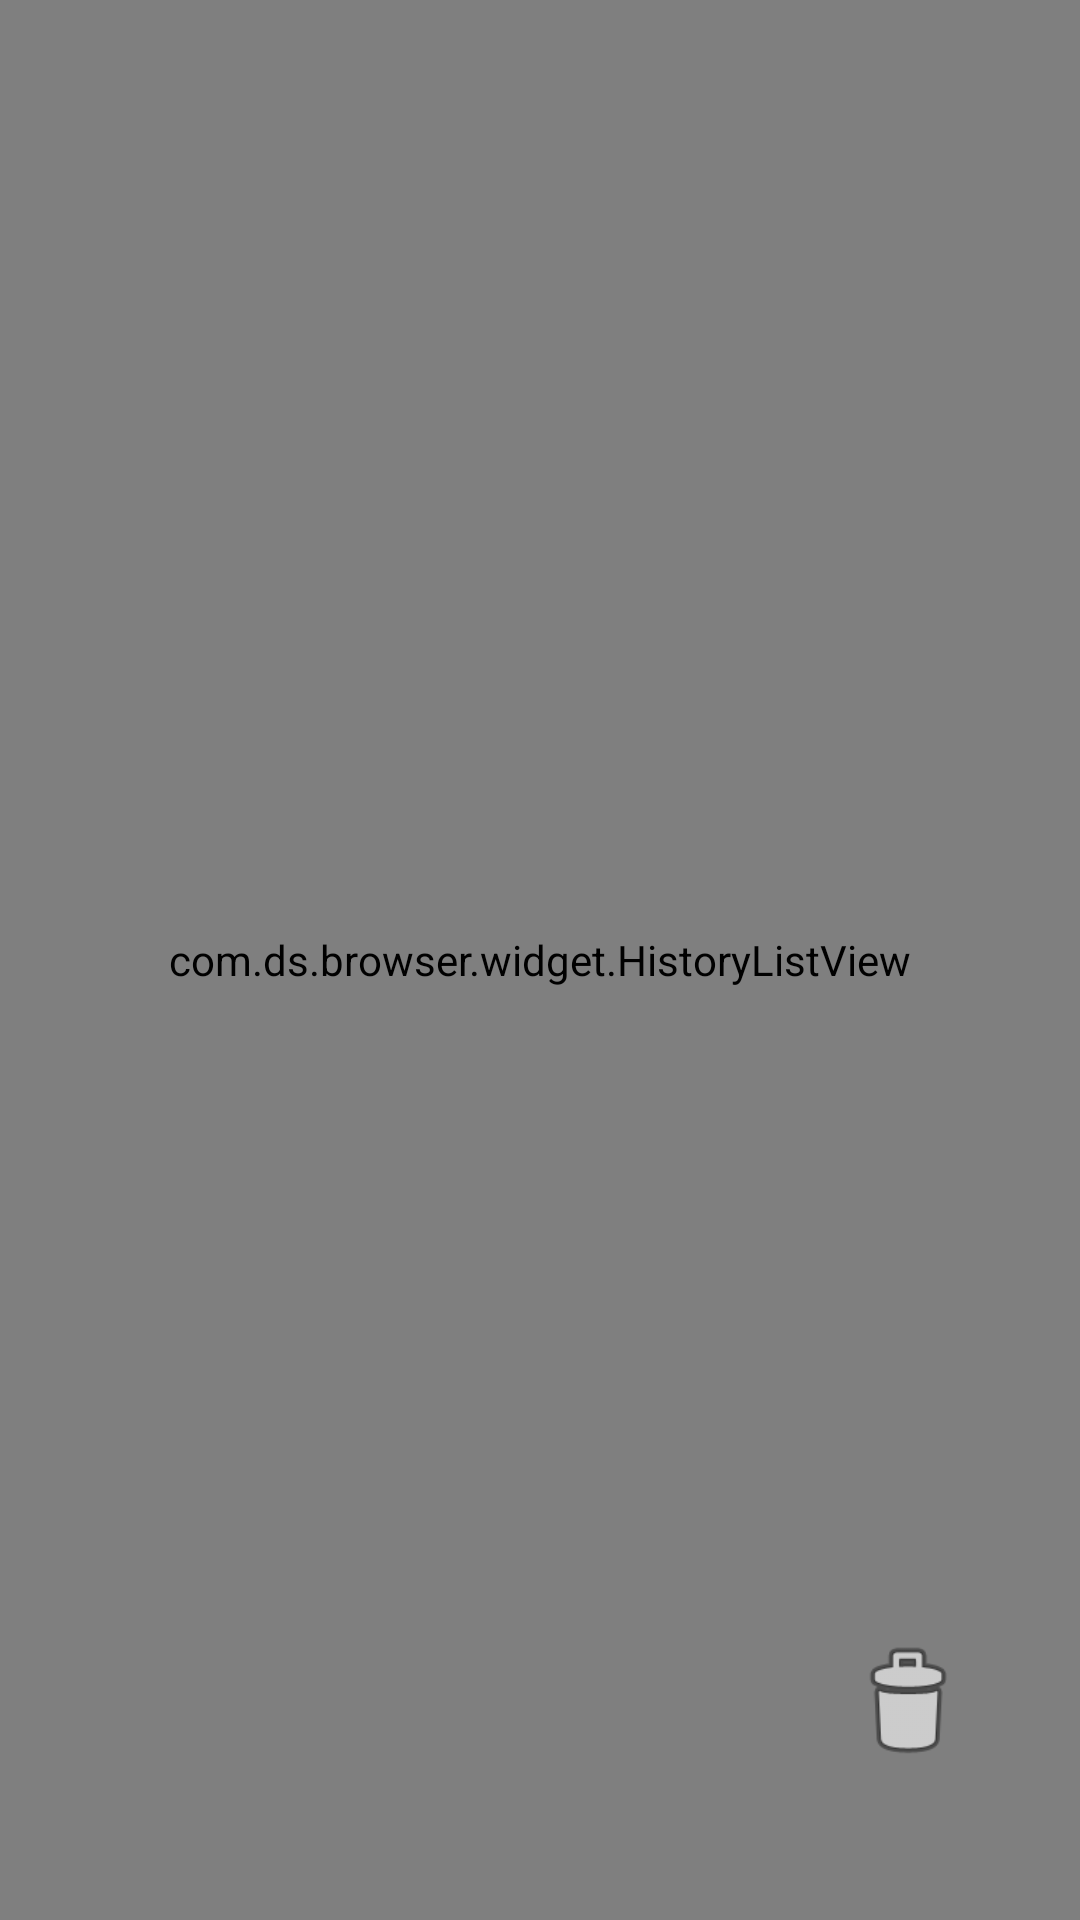

Locate icon controls on the screen. Image size 1080×1920, boxes as (x1, y1, x2, y2).
delete: (871, 1648, 946, 1753)
